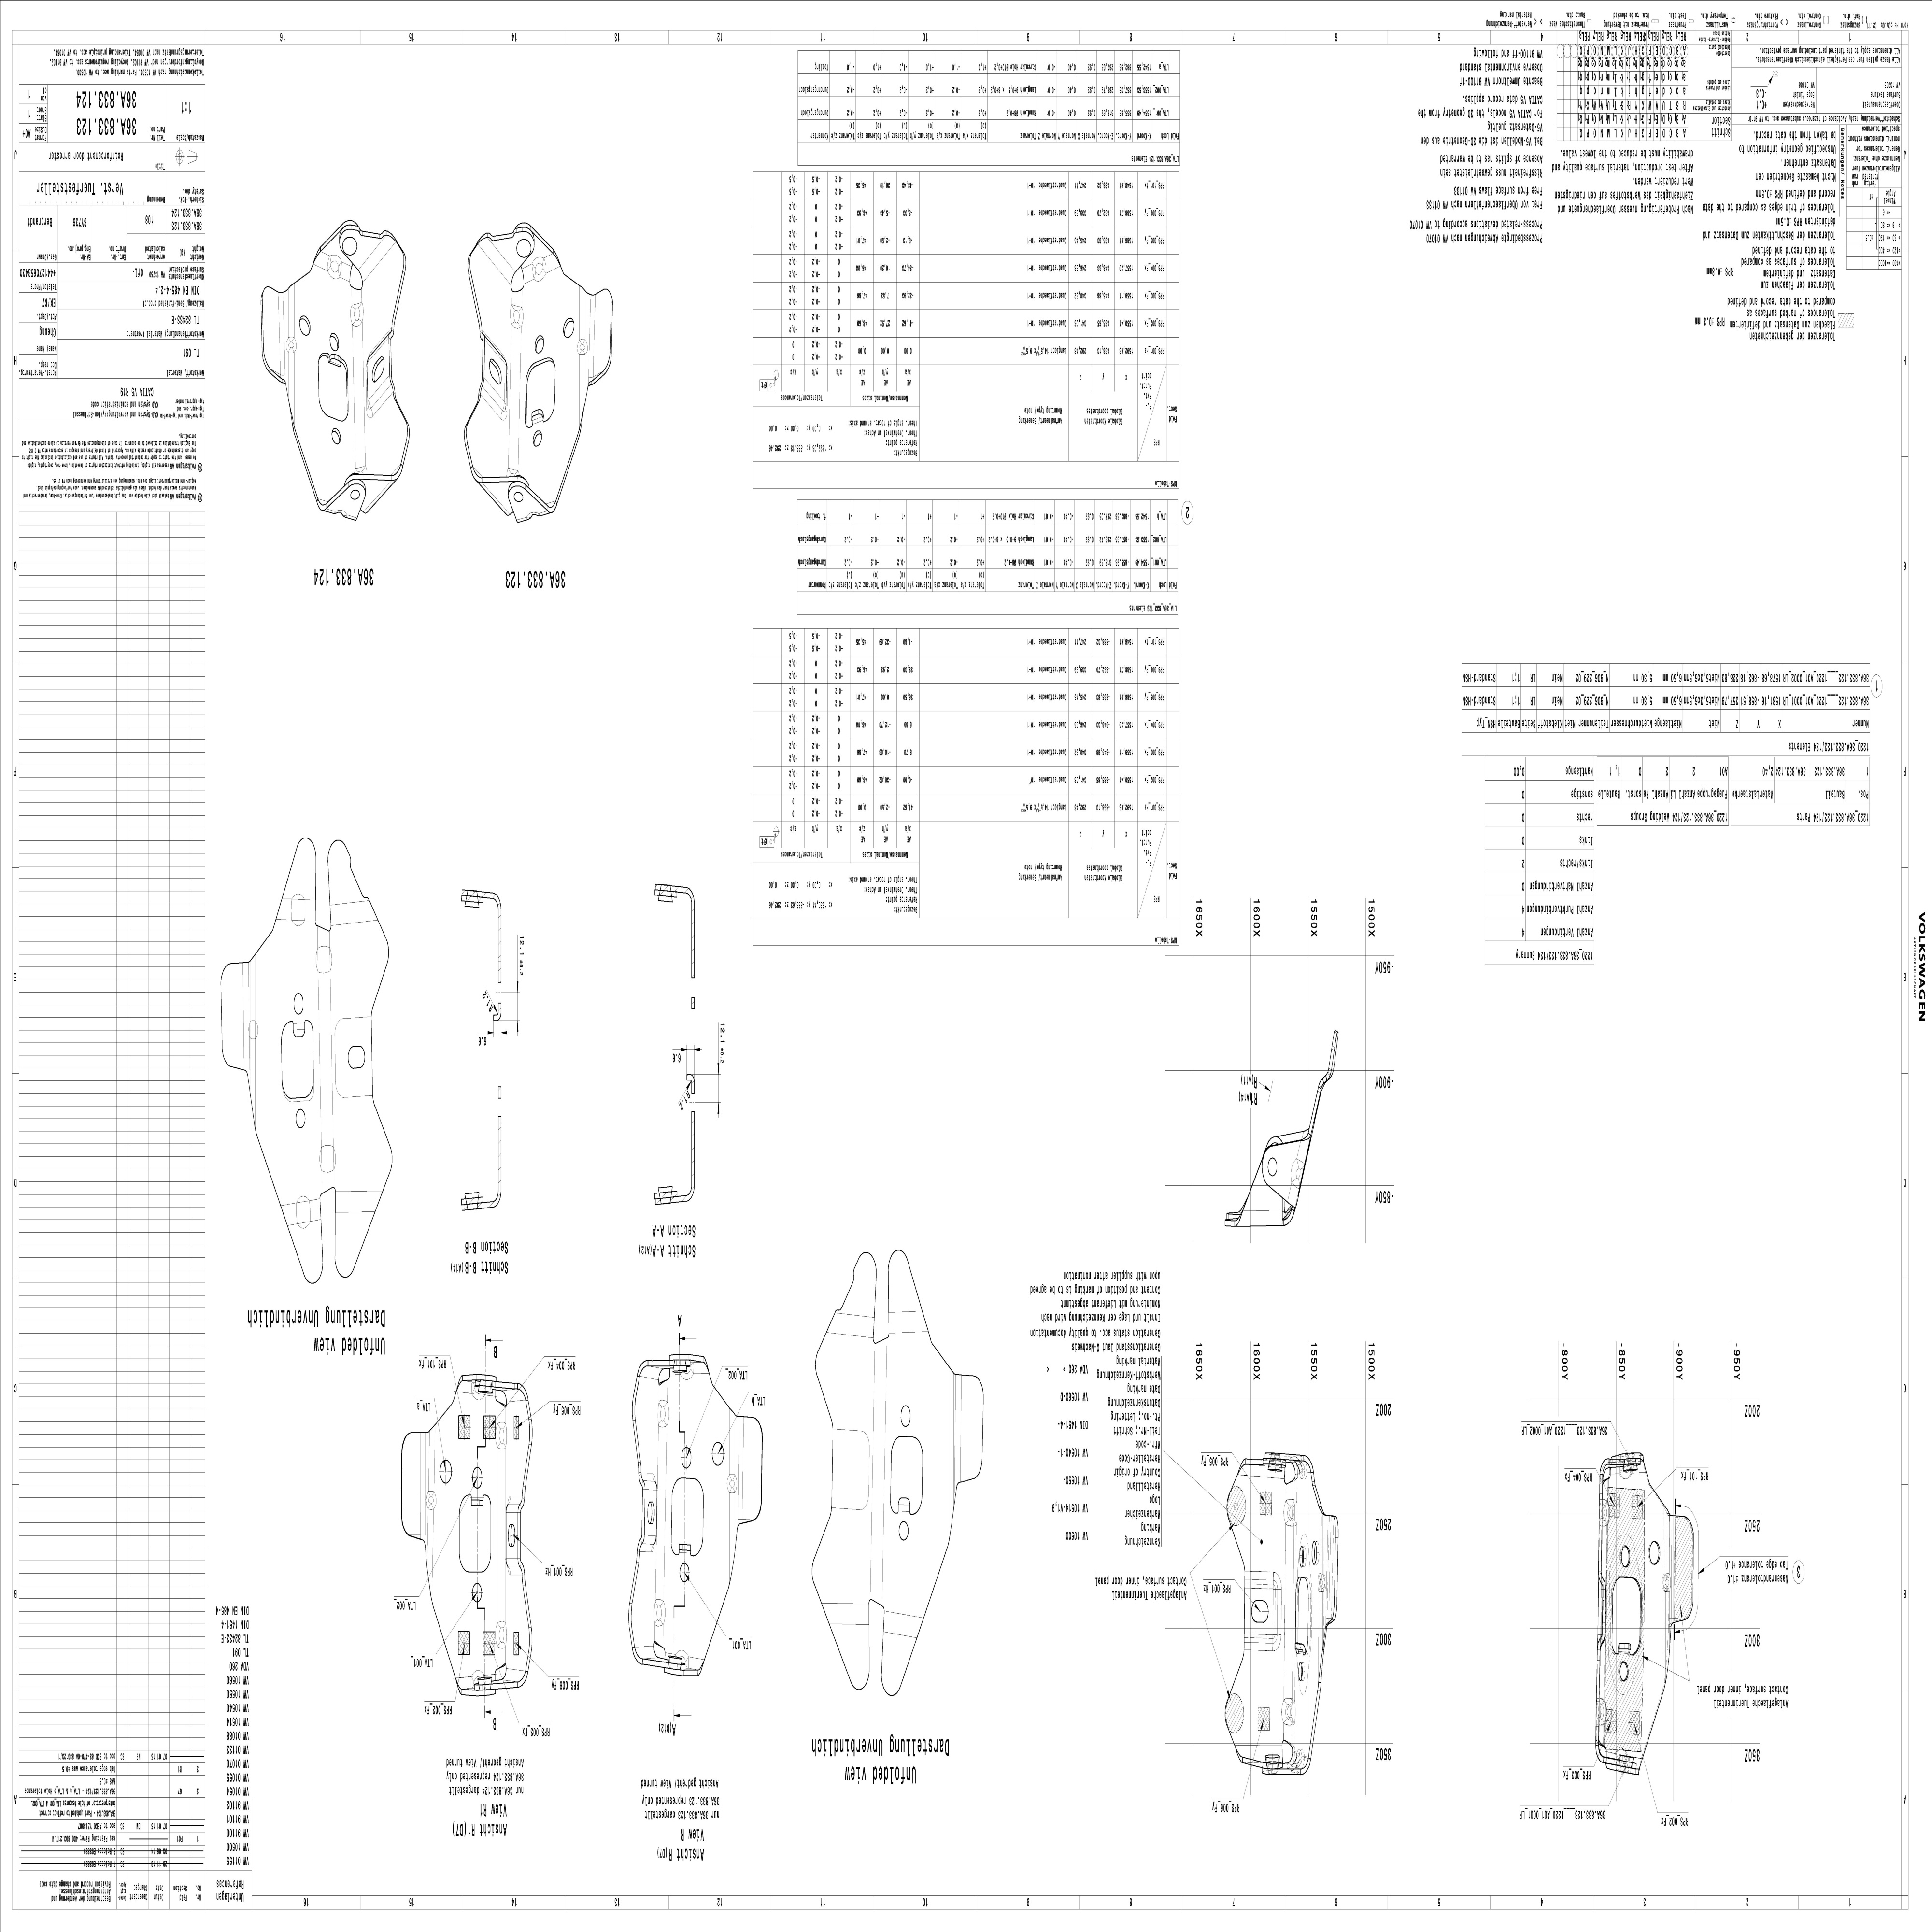BendingEdge: (315, 924, 336, 1194), (653, 1378, 671, 1647), (870, 1338, 888, 1603), (495, 1399, 508, 1670), (350, 287, 368, 476), (508, 287, 524, 467), (474, 234, 520, 285), (352, 232, 398, 283), (311, 248, 357, 283), (824, 1311, 876, 1341), (879, 1608, 925, 1640), (327, 899, 377, 927), (280, 1198, 324, 1228), (819, 1601, 872, 1626), (361, 479, 396, 517), (334, 1189, 384, 1214), (479, 481, 511, 518), (886, 1309, 929, 1334), (274, 897, 317, 922), (635, 1359, 667, 1382), (501, 1382, 533, 1405), (630, 1644, 662, 1665), (501, 1667, 529, 1688)
BendingEdgeCurve: (1315, 1067, 1336, 1093), (469, 464, 485, 485), (389, 464, 407, 481), (545, 499, 559, 515), (1594, 1744, 1605, 1764), (315, 497, 327, 511)
Embossment: (1240, 1568, 1283, 1654), (478, 329, 510, 423), (364, 327, 396, 419), (637, 1470, 658, 1555), (504, 1495, 525, 1578), (1596, 1571, 1606, 1652)
InnerContour: (1251, 1598, 1269, 1624), (709, 1440, 725, 1467), (439, 1458, 453, 1484), (895, 1520, 911, 1543), (1619, 1543, 1631, 1569), (294, 1108, 308, 1131), (297, 313, 311, 336), (561, 317, 575, 340), (1649, 1537, 1660, 1568), (901, 1403, 913, 1428), (678, 1562, 692, 1583), (679, 1445, 692, 1468), (471, 1467, 483, 1490), (292, 993, 304, 1016), (329, 329, 341, 352), (1309, 1539, 1320, 1566), (1617, 1661, 1629, 1683), (471, 1582, 483, 1603), (533, 334, 545, 354), (331, 426, 341, 446), (1299, 1545, 1307, 1568), (1297, 1661, 1306, 1683), (533, 430, 543, 448)
Reinforcement: (1288, 1157, 1306, 1189), (1279, 1697, 1297, 1727), (1288, 1748, 1309, 1773), (494, 1421, 510, 1451), (508, 303, 525, 329), (653, 1598, 667, 1628), (327, 253, 343, 280), (531, 257, 547, 283), (1283, 1499, 1297, 1527), (656, 1399, 671, 1428), (494, 1621, 508, 1649), (349, 303, 364, 327), (1594, 1697, 1606, 1725), (1293, 1454, 1307, 1479), (471, 1380, 487, 1401), (1598, 1499, 1610, 1525), (674, 1649, 690, 1668), (469, 1668, 485, 1688), (681, 1362, 695, 1382), (425, 1490, 437, 1511), (1617, 1465, 1633, 1479), (727, 1472, 738, 1493), (285, 336, 297, 354), (577, 338, 589, 356), (331, 506, 349, 518), (504, 465, 520, 478), (1318, 1571, 1327, 1592), (1661, 1573, 1670, 1592), (525, 510, 540, 520), (354, 465, 368, 474)
